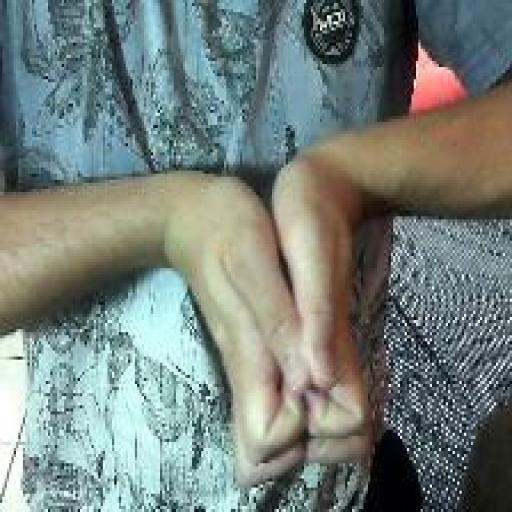I -boar-: (182, 152, 378, 491)
